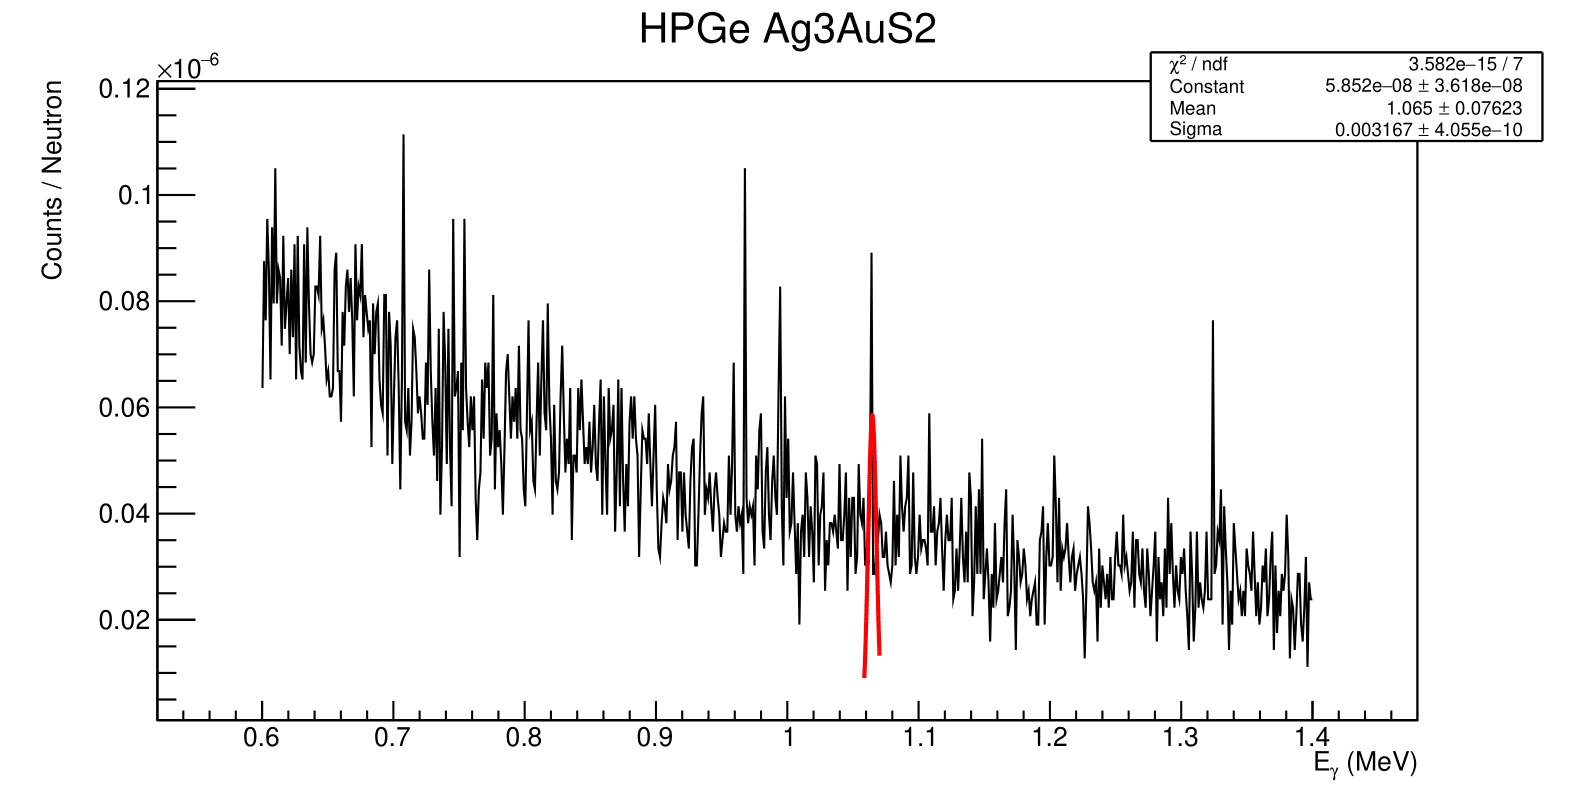gauss: (835, 237, 904, 685), (1187, 318, 1246, 662), (726, 174, 761, 570), (385, 131, 421, 483)
